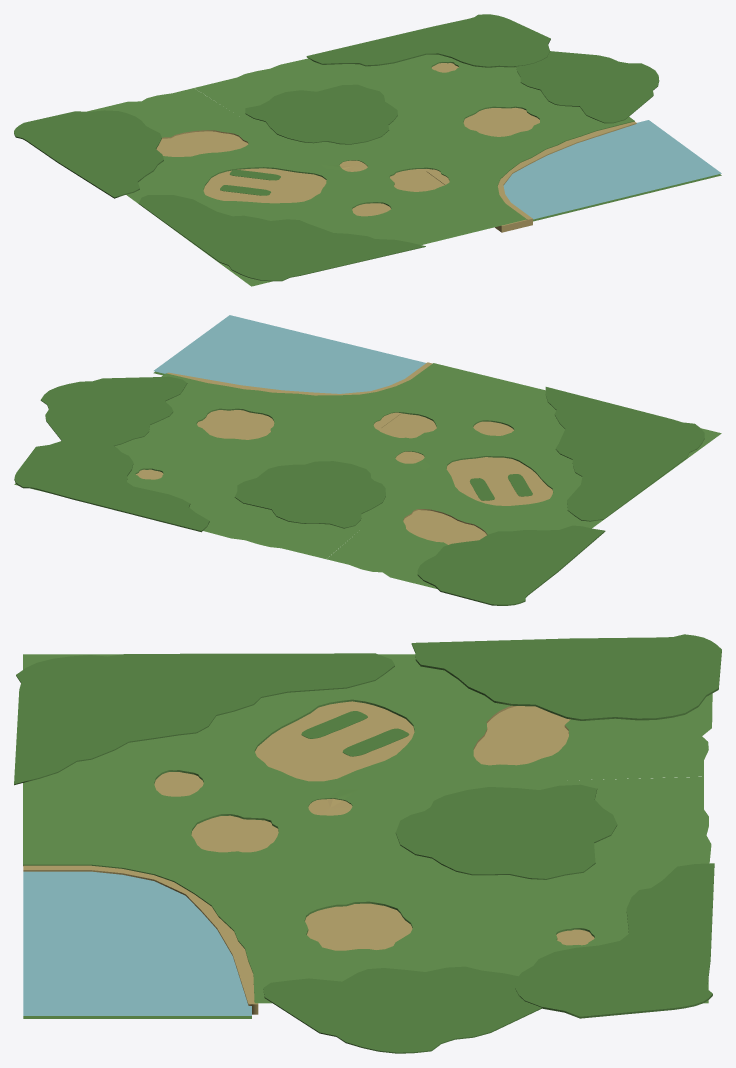
The model's file is Ground_Dirt_A8.fbx.
The picture shows the model from 3 angles, top to bottom: view 1: azimuth 30°, elevation 25°; view 2: azimuth 150°, elevation 25°; view 3: azimuth 270°, elevation 25°; orthographic projection. The views are drawn at different scales.
Parts seen in each view (by area): view 1: Ground_Dirt_A8, Water, Ground_Grass_B6, Ground_Grass_B5, Ground_Grass_B4, Ground_Grass_B3, Ground_Grass_B, Ground_Grass_A_mesh1, Ground_Lake; view 2: Ground_Dirt_A8, Water, Ground_Grass_B6, Ground_Grass_B5, Ground_Grass_B4, Ground_Grass_B3, Ground_Grass_B, Ground_Grass_A_mesh1; view 3: Ground_Dirt_A8, Water, Ground_Grass_B6, Ground_Grass_B5, Ground_Grass_B4, Ground_Grass_B3, Ground_Grass_B, Ground_Grass_A_mesh1, Ground_Grass_B2, Ground_Grass_B1, Ground_Lake.
Part boxes in pixels (bbox=[...]): Ground_Dirt_A8: bbox=[87, 54, 634, 286]; Water: bbox=[503, 120, 721, 219]; Ground_Grass_B6: bbox=[138, 195, 425, 281]; Ground_Grass_B5: bbox=[14, 110, 163, 198]; Ground_Grass_B4: bbox=[306, 14, 550, 67]; Ground_Grass_B3: bbox=[516, 51, 659, 123]; Ground_Grass_B: bbox=[245, 84, 397, 144]; Ground_Grass_A_mesh1: bbox=[426, 121, 636, 232]; Ground_Lake: bbox=[533, 174, 721, 221]; Ground_Dirt_A8: bbox=[14, 363, 721, 588]; Water: bbox=[154, 315, 425, 393]; Ground_Grass_B6: bbox=[545, 387, 704, 521]; Ground_Grass_B5: bbox=[417, 525, 605, 605]; Ground_Grass_B4: bbox=[14, 438, 209, 532]; Ground_Grass_B3: bbox=[40, 376, 187, 446]; Ground_Grass_B: bbox=[234, 461, 385, 528]; Ground_Grass_A_mesh1: bbox=[167, 362, 432, 427]; Ground_Dirt_A8: bbox=[23, 654, 712, 1003]; Water: bbox=[23, 871, 251, 1015]; Ground_Grass_B6: bbox=[14, 653, 394, 785]; Ground_Grass_B5: bbox=[411, 634, 721, 720]; Ground_Grass_B4: bbox=[515, 863, 714, 1018]; Ground_Grass_B3: bbox=[263, 966, 542, 1053]; Ground_Grass_B: bbox=[395, 784, 617, 879]; Ground_Grass_A_mesh1: bbox=[23, 846, 258, 1014]; Ground_Grass_B2: bbox=[342, 728, 409, 756]; Ground_Grass_B1: bbox=[301, 711, 367, 738]; Ground_Lake: bbox=[23, 1016, 251, 1018].
Bounding box in the file's own units: 744 × 10.87 × 533.
